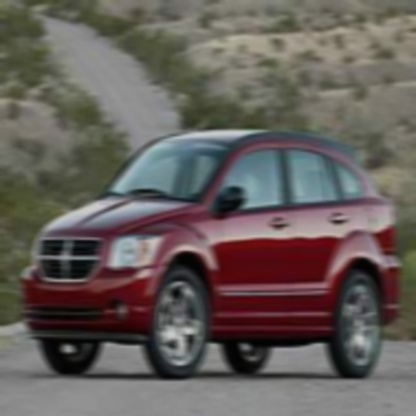Vehicle: (23, 128, 401, 380)
